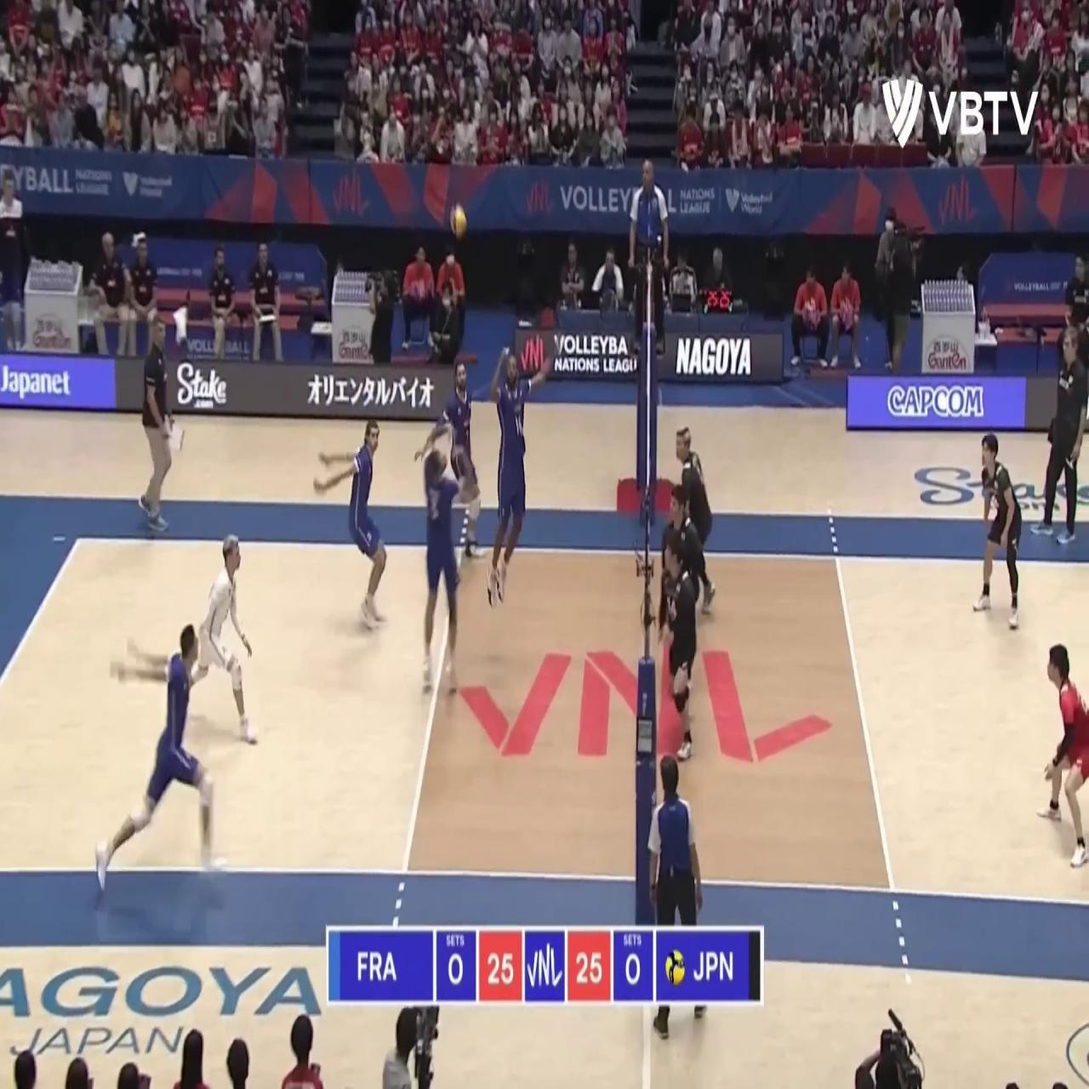ball: (448, 203, 467, 238)
